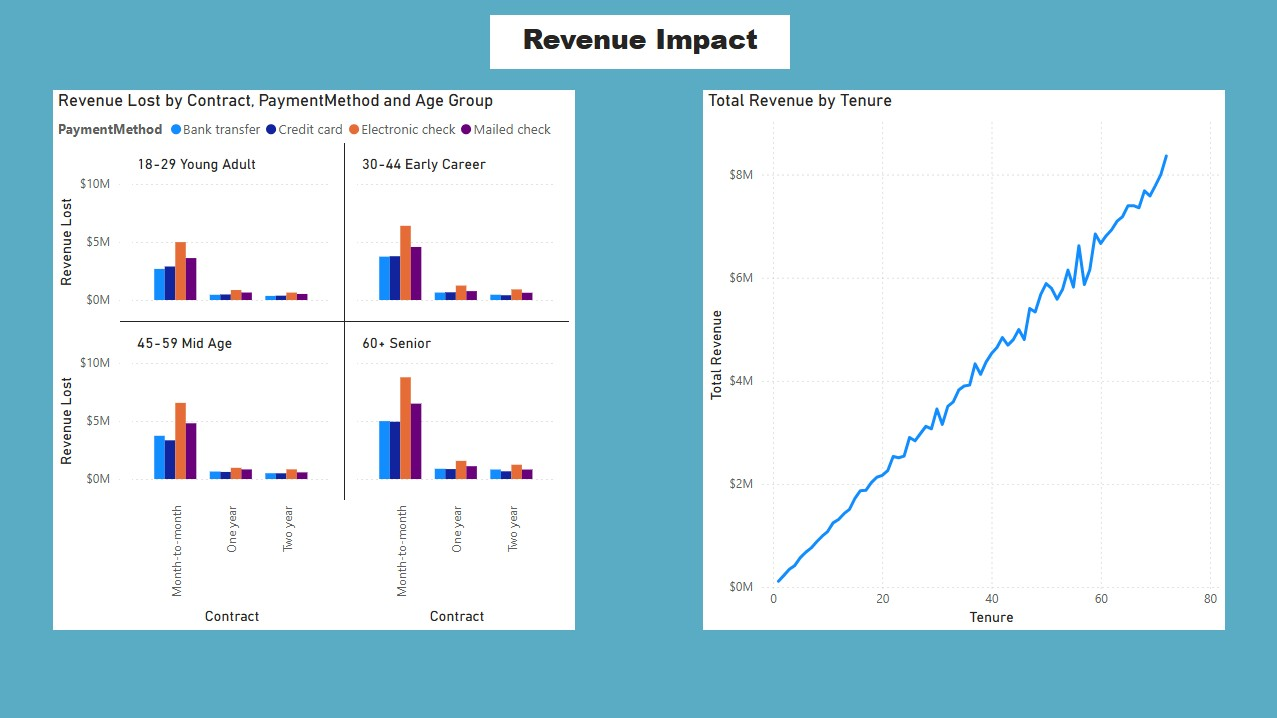

The page's visual inventory and layout, read from the dashboard file:
{"tool":"powerbi","page":{"name":"Revenue Impact","canvas":[1280,720],"ordinal":2},"visuals":[{"type":"clusteredColumnChart","fields":{"Y":["telco.Revenue Lost"],"Category":["telco.Contract"],"Series":["telco.PaymentMethod"],"Rows":["telco.Age Group"]},"box":[53,90,522,540],"z":0},{"type":"lineChart","fields":{"Category":["telco.Tenure"],"Y":["telco.Total Revenue"]},"box":[703,90,522,540],"z":1000},{"type":"textbox","box":[490,15,300,54],"z":2000}]}

Visuals, with their boxes in screenshot pixels (x1, y1, x2, y2), scaled from the page's 1280x720 canvas onto the 1277x718 screenshot:
clusteredColumnChart - telco.Revenue Lost x telco.Contract: [53,90,574,628]
lineChart - telco.Tenure x telco.Total Revenue: [701,90,1222,628]
textbox: [489,15,788,69]
